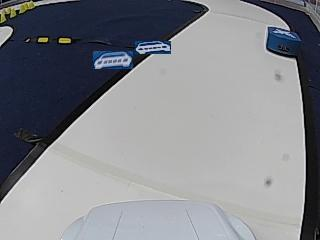prop: (267, 26, 299, 57)
